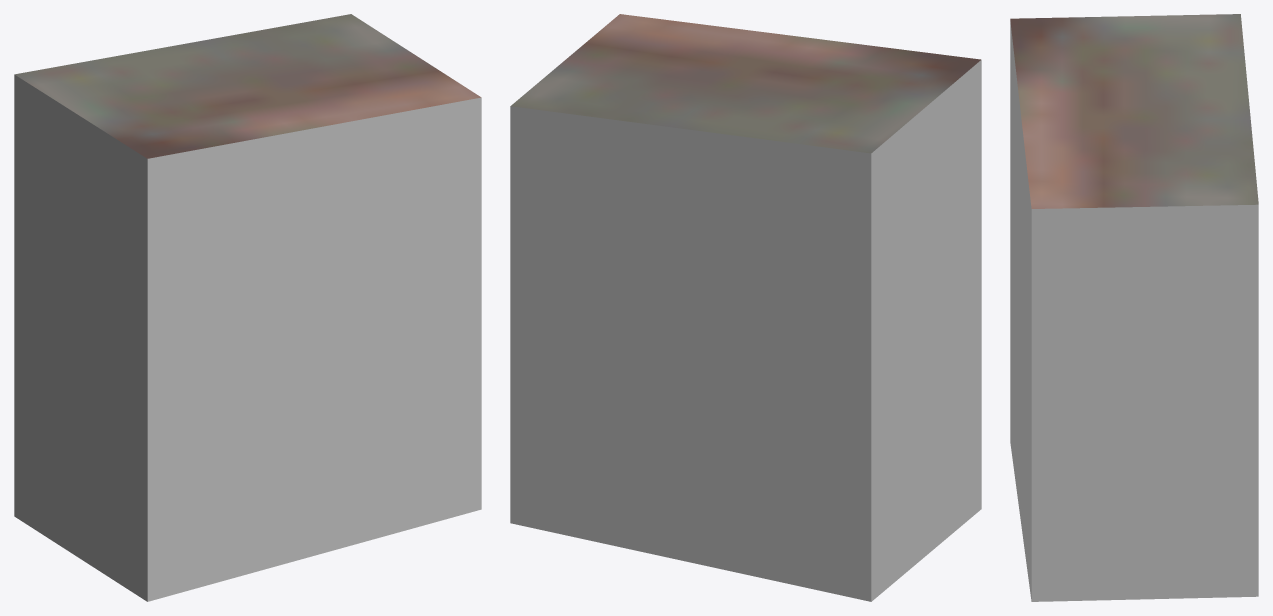
Rendered from DEBW_0010007THZ6.gltf.
The picture shows the model from 3 angles, left to right: view 1: azimuth 30°, elevation 25°; view 2: azimuth 150°, elevation 25°; view 3: azimuth 270°, elevation 25°; orthographic projection. The views are drawn at different scales.
Visible parts, largest first — view 1: Z_UP; view 2: Z_UP; view 3: Z_UP.
Boxes of the visible parts, x1,y1,x2,y2 form: Z_UP: (14,14,481,601); Z_UP: (510,14,981,601); Z_UP: (1010,14,1258,601).
Size of the model in its own units: 3.5 by 4.14 by 2.21.
Materials: 2 (1 with a texture image).
